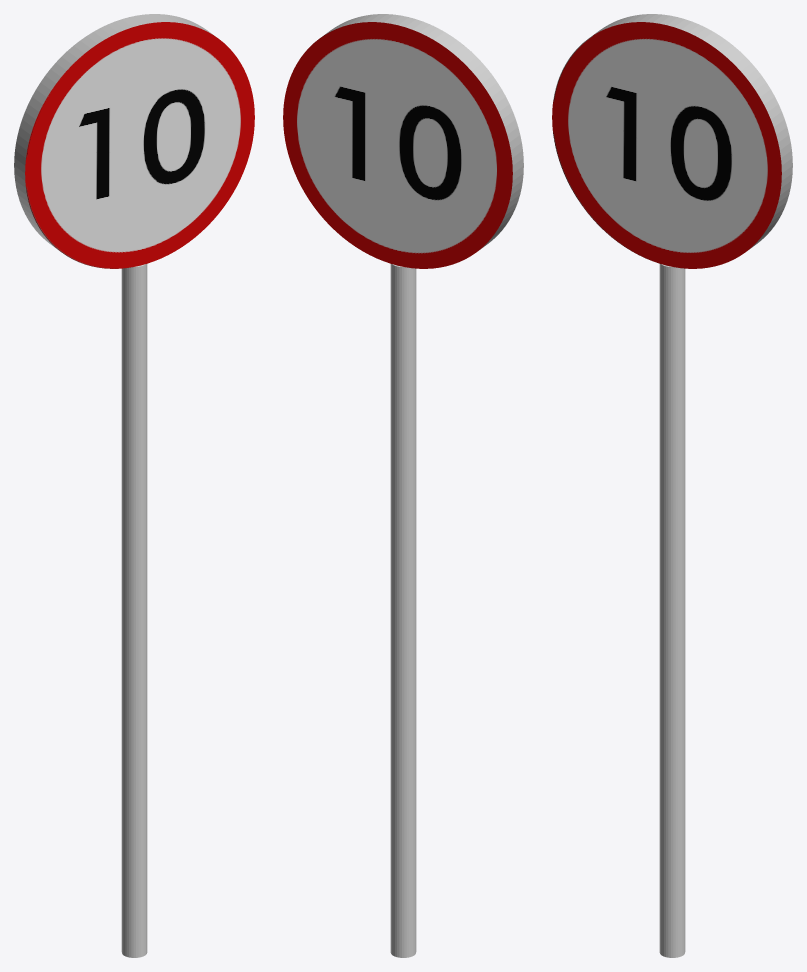
The model's file is speed_limit_10.dae.
The picture shows the model from 3 angles, left to right: view 1: azimuth 30°, elevation 25°; view 2: azimuth 150°, elevation 25°; view 3: azimuth 330°, elevation 25°; orthographic projection.
Parts seen in each view (by area): view 1: Speed_Limit_10, Speed_Limit_10_Pole; view 2: Speed_Limit_10, Speed_Limit_10_Pole; view 3: Speed_Limit_10, Speed_Limit_10_Pole.
Boxes of the visible parts, x1=… form: Speed_Limit_10: x1=14, y1=14, x2=254, y2=268; Speed_Limit_10_Pole: x1=121, y1=264, x2=147, y2=957; Speed_Limit_10: x1=283, y1=14, x2=523, y2=268; Speed_Limit_10_Pole: x1=390, y1=264, x2=416, y2=957; Speed_Limit_10: x1=552, y1=14, x2=792, y2=268; Speed_Limit_10_Pole: x1=659, y1=264, x2=685, y2=957.
Bounding box in the file's own units: 0.8353 × 0.08 × 3.24.
Materials: 1 (1 with a texture image).
